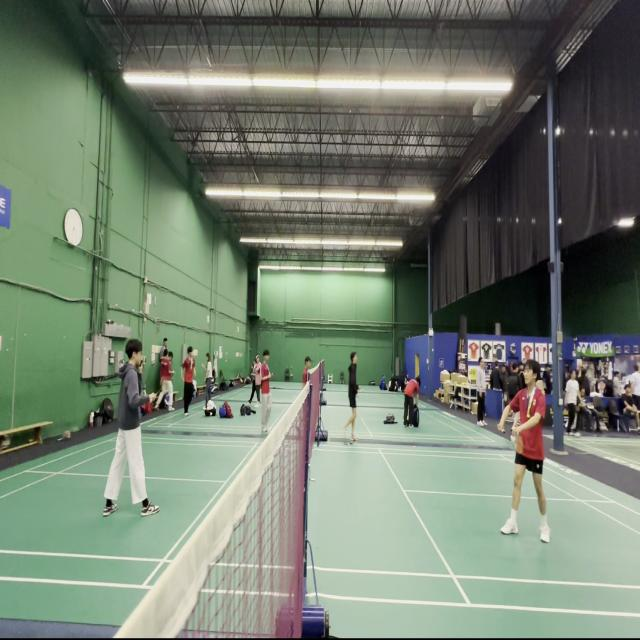shuttlecock: (511, 434, 516, 444)
